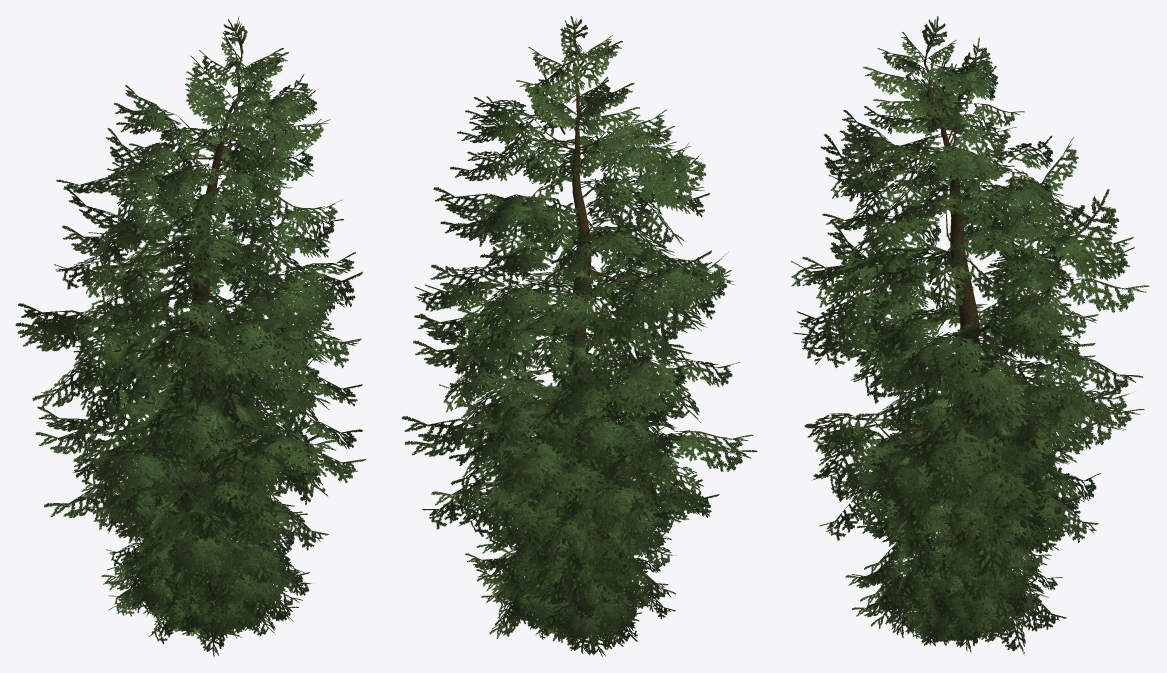
Rendered from fir-pack-selected.glb.
The picture shows the model from 3 angles, left to right: view 1: azimuth 30°, elevation 25°; view 2: azimuth 150°, elevation 25°; view 3: azimuth 270°, elevation 25°; orthographic projection. The views are drawn at different scales.
Visible parts, largest first — view 1: Christmas tree_2_LOD1_Brunches_Mat_0, Christmas tree_4_LOD1_Brunches_Mat_0, Christmas tree_5_LOD1_Brunches_Mat_0, Christmas tree_2_LOD1_Bark_Mat_0; view 2: Christmas tree_2_LOD1_Brunches_Mat_0, Christmas tree_4_LOD1_Brunches_Mat_0, Christmas tree_5_LOD1_Brunches_Mat_0, Christmas tree_2_LOD1_Bark_Mat_0; view 3: Christmas tree_2_LOD1_Brunches_Mat_0, Christmas tree_4_LOD1_Brunches_Mat_0, Christmas tree_5_LOD1_Brunches_Mat_0, Christmas tree_2_LOD1_Bark_Mat_0.
Part boxes in pixels (x1,y1,x2,y2): Christmas tree_2_LOD1_Brunches_Mat_0: (15, 17, 366, 584); Christmas tree_4_LOD1_Brunches_Mat_0: (101, 339, 311, 638); Christmas tree_5_LOD1_Brunches_Mat_0: (105, 379, 309, 656); Christmas tree_2_LOD1_Bark_Mat_0: (120, 50, 272, 635); Christmas tree_2_LOD1_Brunches_Mat_0: (402, 17, 757, 584); Christmas tree_4_LOD1_Brunches_Mat_0: (465, 338, 677, 655); Christmas tree_5_LOD1_Brunches_Mat_0: (481, 373, 675, 656); Christmas tree_2_LOD1_Bark_Mat_0: (488, 46, 675, 637); Christmas tree_2_LOD1_Brunches_Mat_0: (791, 19, 1149, 584); Christmas tree_4_LOD1_Brunches_Mat_0: (845, 365, 1069, 652); Christmas tree_5_LOD1_Brunches_Mat_0: (852, 374, 1051, 655); Christmas tree_2_LOD1_Bark_Mat_0: (868, 53, 1038, 640).
Size of the model in its own units: 4.95 by 9.26 by 4.88.
2 materials, 2 textured.
